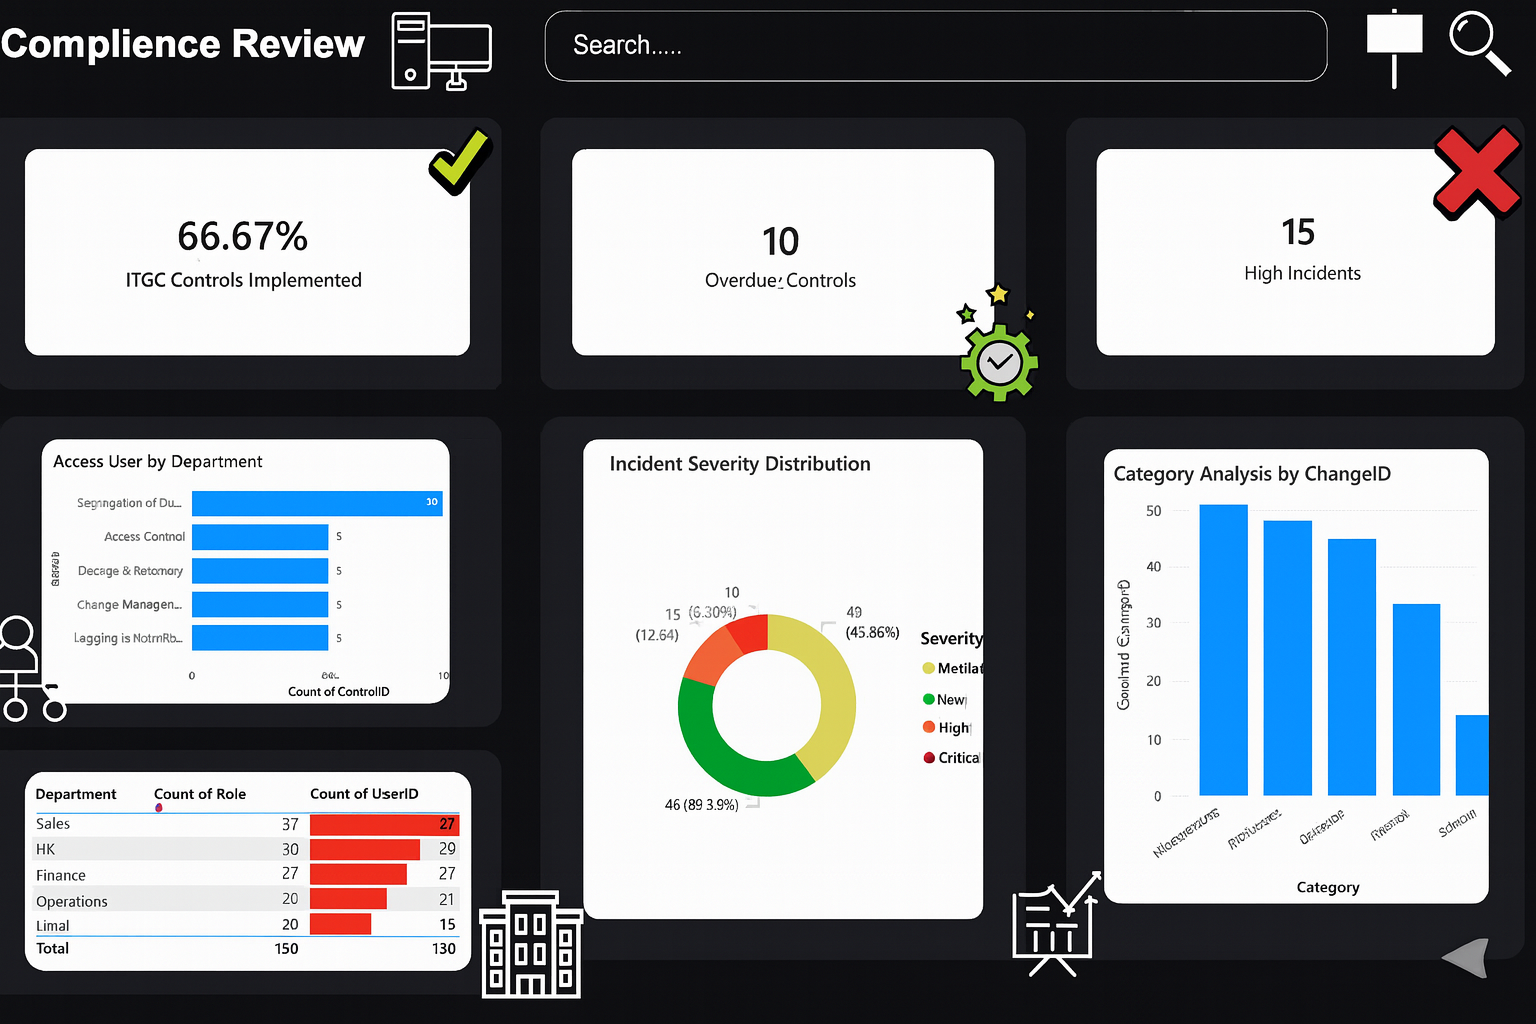

This screenshot's page, from the dashboard's own definition file:
{"tool":"powerbi","page":{"name":"Page 1","canvas":[1280,720],"ordinal":0},"visuals":[{"type":"textbox","box":[0,0,1280,64],"z":1000},{"type":"cardVisual","fields":{"Data":["ITGCControls.ITGC_Implemented_Pct"]},"box":[0,64,400,208],"z":2000},{"type":"cardVisual","fields":{"Data":["ITGCControls.Overdue_Controls"]},"box":[400,64,480,208],"z":3000},{"type":"cardVisual","fields":{"Data":["ITGCControls.High Incidents"]},"box":[880,64,400,208],"z":4000},{"type":"barChart","title":"Access User by Department","fields":{"Y":["CountNonNull(ITGCControls.ControlID)"],"Category":["ITGCControls.Domain"]},"box":[0,272,480,256],"z":5000},{"type":"donutChart","title":"Incident Severity Distribution","fields":{"Category":["Incidents.Severity"],"Y":["CountNonNull(Incidents.IncidentID)"]},"box":[496,288,352,432],"z":6000},{"type":"tableEx","fields":{"Values":["UserAccess.Department","CountNonNull(UserAccess.Role)","CountNonNull(UserAccess.UserID)"]},"box":[0,528,480,192],"z":6001},{"type":"columnChart","title":"Category Analysis by ChangeID","fields":{"Category":["ChangeManagement.Category"],"Y":["CountNonNull(ChangeManagement.ChangeID)"]},"box":[848,288,432,432],"z":6002}]}

Visuals, with their boxes on the page's 1280x720 design canvas (x1, y1, x2, y2). These are canvas units, not pixel positions in the 1536x1024 screenshot, which may show the page scaled, cropped or inside an application window:
textbox: x1=0, y1=0, x2=1280, y2=64
cardVisual - ITGCControls.ITGC_Implemented_Pct: x1=0, y1=64, x2=400, y2=272
cardVisual - ITGCControls.Overdue_Controls: x1=400, y1=64, x2=880, y2=272
cardVisual - ITGCControls.High Incidents: x1=880, y1=64, x2=1280, y2=272
"Access User by Department" barChart: x1=0, y1=272, x2=480, y2=528
"Incident Severity Distribution" donutChart: x1=496, y1=288, x2=848, y2=720
tableEx - UserAccess.Department x CountNonNull(UserAccess.Role): x1=0, y1=528, x2=480, y2=720
"Category Analysis by ChangeID" columnChart: x1=848, y1=288, x2=1280, y2=720
